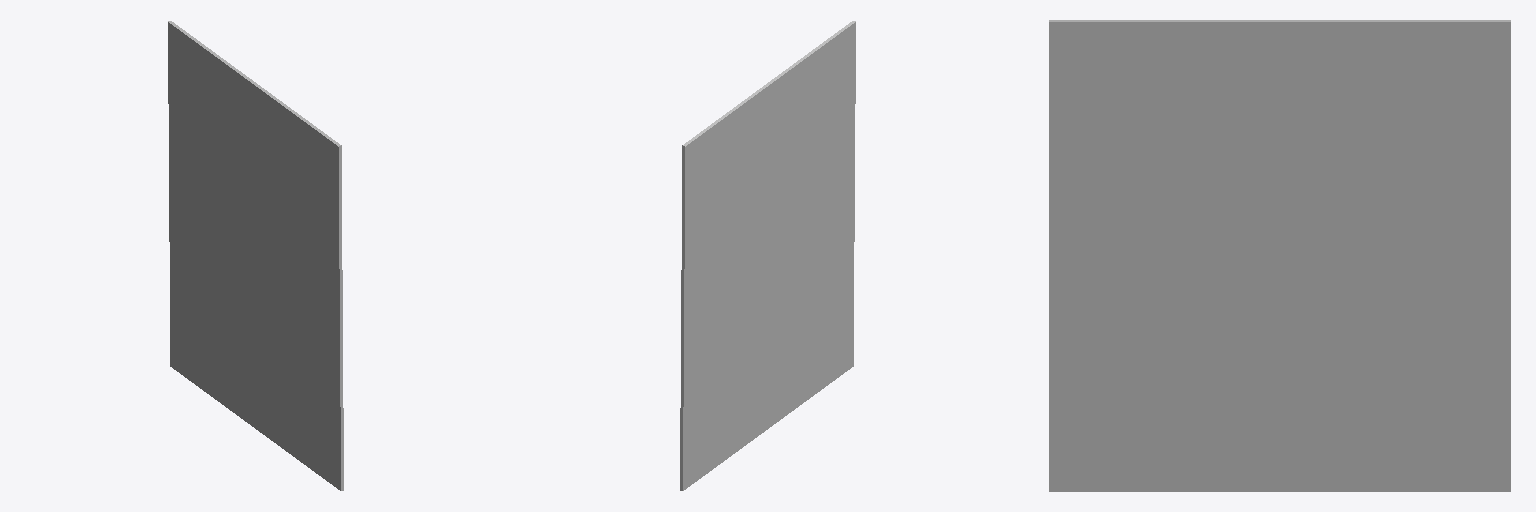
URDF robot description (my_urdf):
<?xml version='1.0' encoding='utf-8'?>
<robot name="my_urdf"><link name="base_link"><visual><origin xyz="0 0 0" rpy="0.0 0.0 0.0" /><material name="white"><color rgba="0.8 0.8 0.8 1" /></material><geometry><mesh filename="../../all_meshes/cabinet.obj" scale="1 1 1" /></geometry></visual><collision><origin xyz="0 0 0" rpy="0.0 0.0 0.0" /><geometry><mesh filename="../../all_meshes/cabinet.obj" scale="1 1 1" /></geometry></collision><inertial><mass value="1" /><inertia ixx="1e-4" ixy="0" ixz="0" iyy="1e-4" iyz="0" izz="1e-4" /></inertial></link><link name="doorD0"><visual><origin xyz="0 0 0" rpy="0 0 0" /><material name="white"><color rgba="0.8 0.8 0.8 1" /></material><geometry><mesh filename="../../all_meshes/parts/doorD.obj" scale="1 4.0 4.0" /></geometry></visual><collision><origin xyz="0 0 0" rpy="0 0 0" /><geometry><mesh filename="../../all_meshes/parts/doorD.obj" scale="1 4.0 4.0" /></geometry></collision><inertial><mass value="0.2" /><inertia ixx="1e-4" ixy="0" ixz="0" iyy="1e-4" iyz="0" izz="1e-4" /></inertial></link><joint name="doorD0_to_base_link" type="revolute"><axis xyz="0 1 0" /><limit effort="5" lower="-1.57" upper="0" velocity="2.283" /><origin xyz="0 0.0 0.0" rpy="0.0 0.0 0.0" /><parent link="base_link" /><child link="doorD0" /></joint><link name="handle1"><visual><origin xyz="0 0 0" rpy="0 0 0" /><material name="white"><color rgba="0.8 0.8 0.8 1" /></material><geometry><mesh filename="../../all_meshes/parts/handle.obj" scale="1 1 1" /></geometry></visual><collision><origin xyz="0 0 0" rpy="0 0 0" /><geometry><mesh filename="../../all_meshes/parts/handle.obj" scale="1 1 1" /></geometry></collision><inertial><mass value="0.2" /><inertia ixx="1e-4" ixy="0" ixz="0" iyy="1e-4" iyz="0" izz="1e-4" /></inertial></link><joint name="handle1_to_doorD0" type="fixed"><axis xyz="0 0 1" /><limit effort="5" lower="0" upper="1.57" velocity="2.283" /><origin xyz="0 0.5 0.8333333333333334" rpy="1.5707963267948963 0.0 0.0" /><parent link="doorD0" /><child link="handle1" /></joint></robot>

--- Facts derived from the render (not from the file) ---
3 views of the same robot in one strip: view 1: azimuth 30°, elevation 25°; view 2: azimuth 150°, elevation 25°; view 3: azimuth 270°, elevation 25° (orthographic).
Model my_urdf with 3 links and 2 joints (1 revolute, 1 fixed), rooted at base_link, posed all joints at 0.
Links seen in each view (by area): view 1: doorD0; view 2: doorD0; view 3: doorD0.
Link boxes in pixels (bbox=[...]): doorD0: bbox=[168, 21, 343, 490]; doorD0: bbox=[680, 21, 855, 490]; doorD0: bbox=[1049, 20, 1510, 491].
Size in the robot's own frame: 0.0184 by 0.99 by 1.11 metres.
1 mesh visuals loaded from 3 distinct referenced files (1 OBJ); not drawn: 2 (reference not matched to a file when rendering).